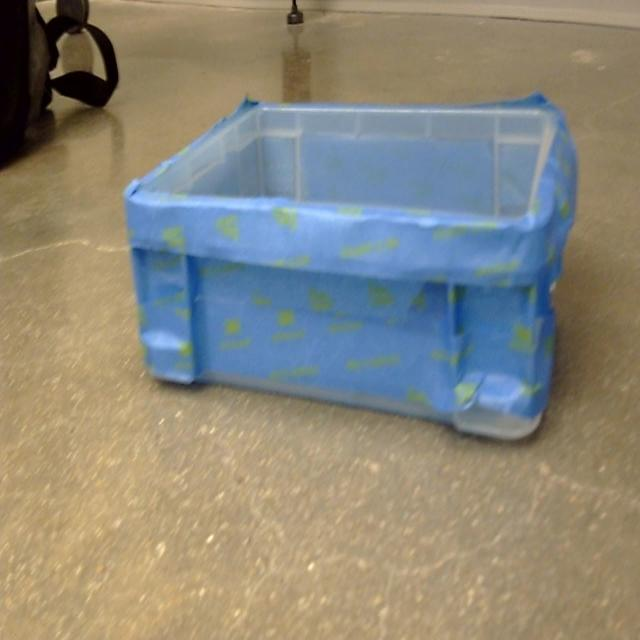bucket: (122, 94, 580, 445)
